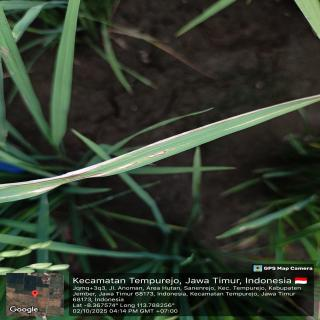Blast: (144, 151, 164, 159)
